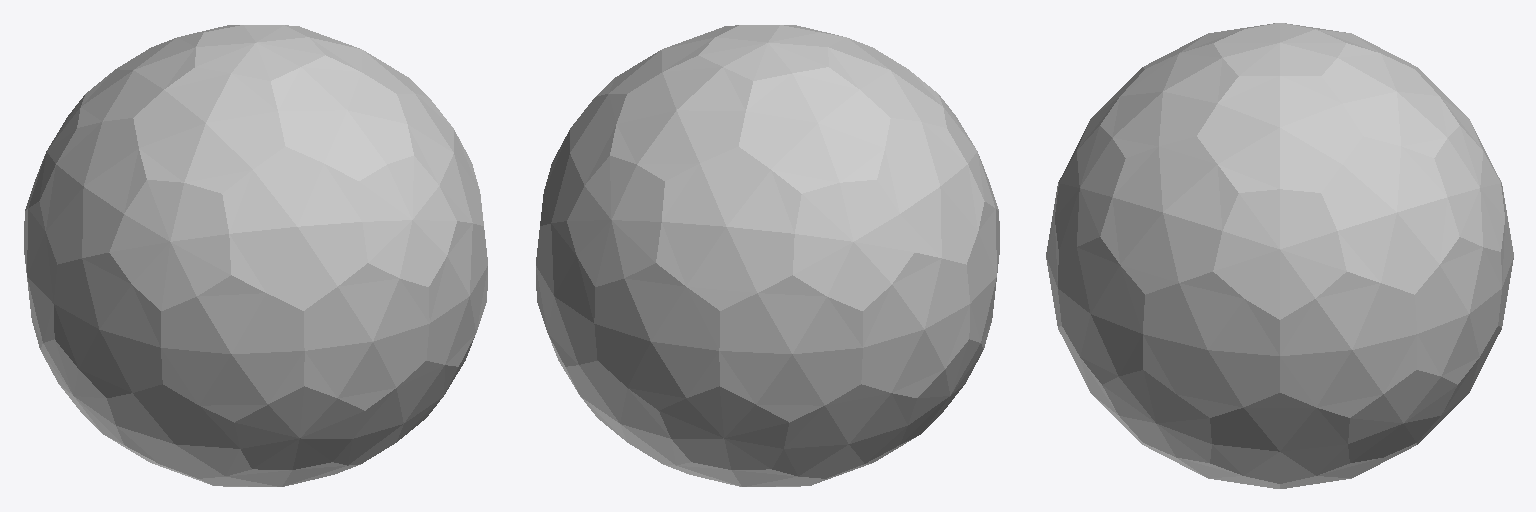
Rendered from ico_sphere_smooth.obj.
The picture shows the model from 3 angles: view 1: azimuth 30°, elevation 25°; view 2: azimuth 150°, elevation 25°; view 3: azimuth 270°, elevation 25°; orthographic projection.
Visible parts, largest first — view 1: Icosphere; view 2: Icosphere; view 3: Icosphere.
Part boxes in pixels (left/top/right/bottom): Icosphere: left=24, top=25, right=487, bottom=486; Icosphere: left=536, top=25, right=999, bottom=486; Icosphere: left=1046, top=23, right=1513, bottom=488.
Bounding box in the file's own units: 0.6159 × 0.6207 × 0.617.